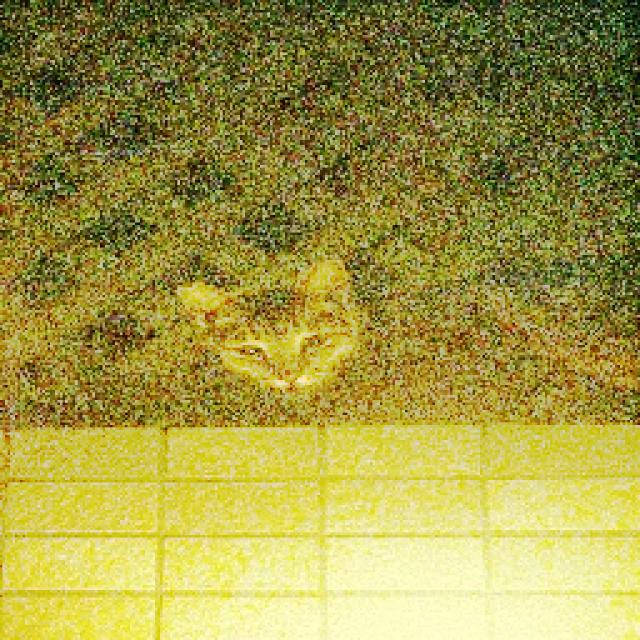cat: (143, 208, 376, 436)
